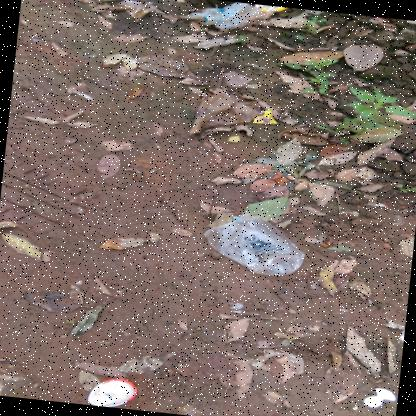Disposable plastic cup: (204, 213, 305, 275)
Other plastic: (254, 110, 277, 124)
Other plastic bottle: (88, 377, 137, 407)
Unlabeled litter: (180, 2, 263, 31), (364, 388, 396, 407), (254, 4, 288, 11), (340, 207, 358, 216)
